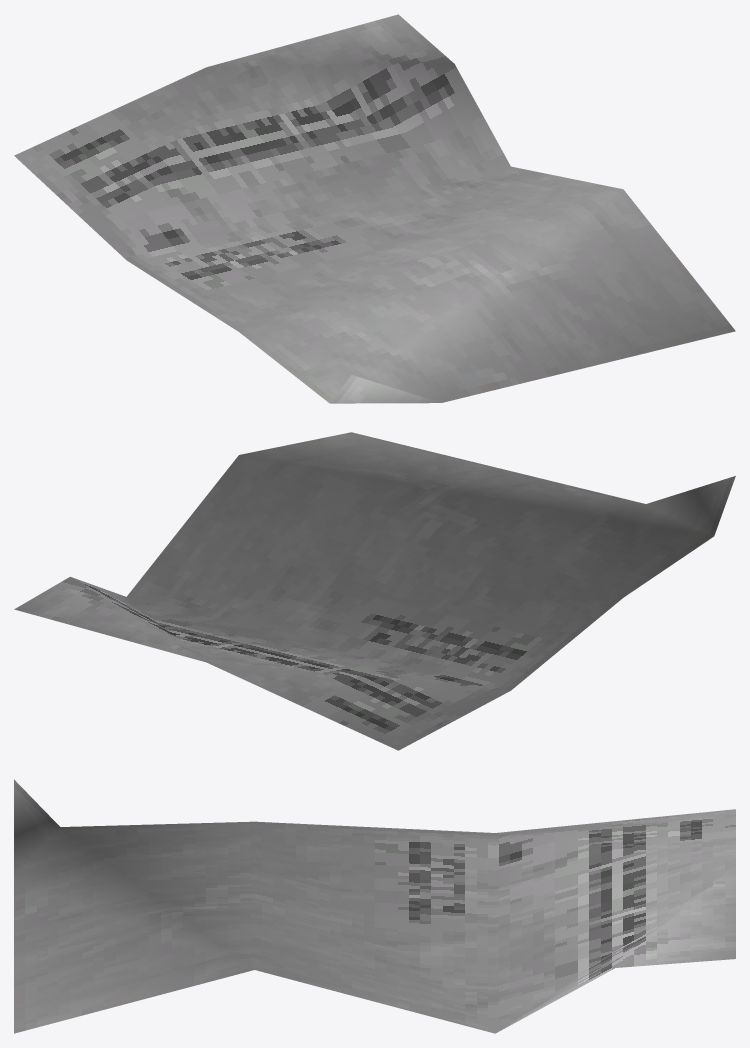
Rendered from common_trash_paper_sheetheavy.glb.
The picture shows the model from 3 angles, top to bottom: view 1: azimuth 30°, elevation 25°; view 2: azimuth 150°, elevation 25°; view 3: azimuth 270°, elevation 25°; orthographic projection. The views are drawn at different scales.
Visible parts, largest first — view 1: common/common_trash_paper_sheetheavy_0; view 2: common/common_trash_paper_sheetheavy_0; view 3: common/common_trash_paper_sheetheavy_0.
Boxes of the visible parts, <box> form: common/common_trash_paper_sheetheavy_0: <box>14,14,735,403</box>; common/common_trash_paper_sheetheavy_0: <box>14,432,735,750</box>; common/common_trash_paper_sheetheavy_0: <box>14,779,735,1033</box>.
Size of the model in its own units: 1.32 by 0.2283 by 2.
1 material, 1 textured.
